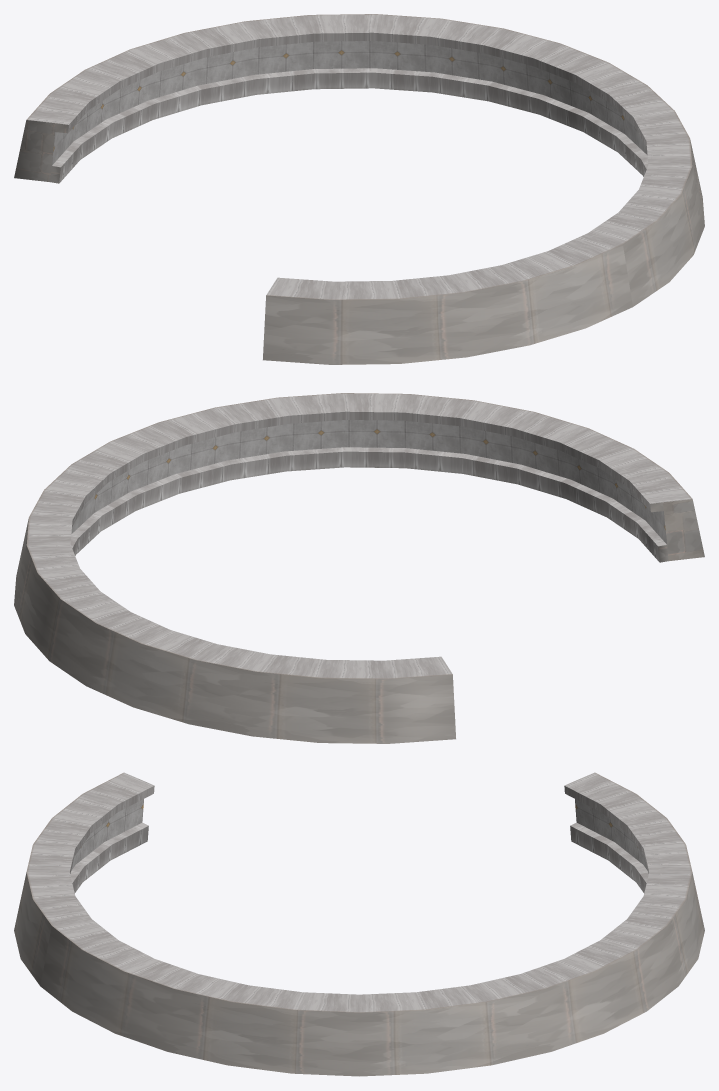
File: PargodeTop.fbx
3 views of the same model, one above another, from view 1: azimuth 30°, elevation 25°; view 2: azimuth 150°, elevation 25°; view 3: azimuth 270°, elevation 25° (orthographic).
Visible parts, largest first — view 1: PargodeTop; view 2: PargodeTop; view 3: PargodeTop.
Part boxes in pixels (x1,y1,x2,y2): PargodeTop: [14, 14, 704, 364]; PargodeTop: [14, 393, 704, 743]; PargodeTop: [14, 772, 704, 1076].
Size of the model in its own units: 2334 by 257 by 2734.
